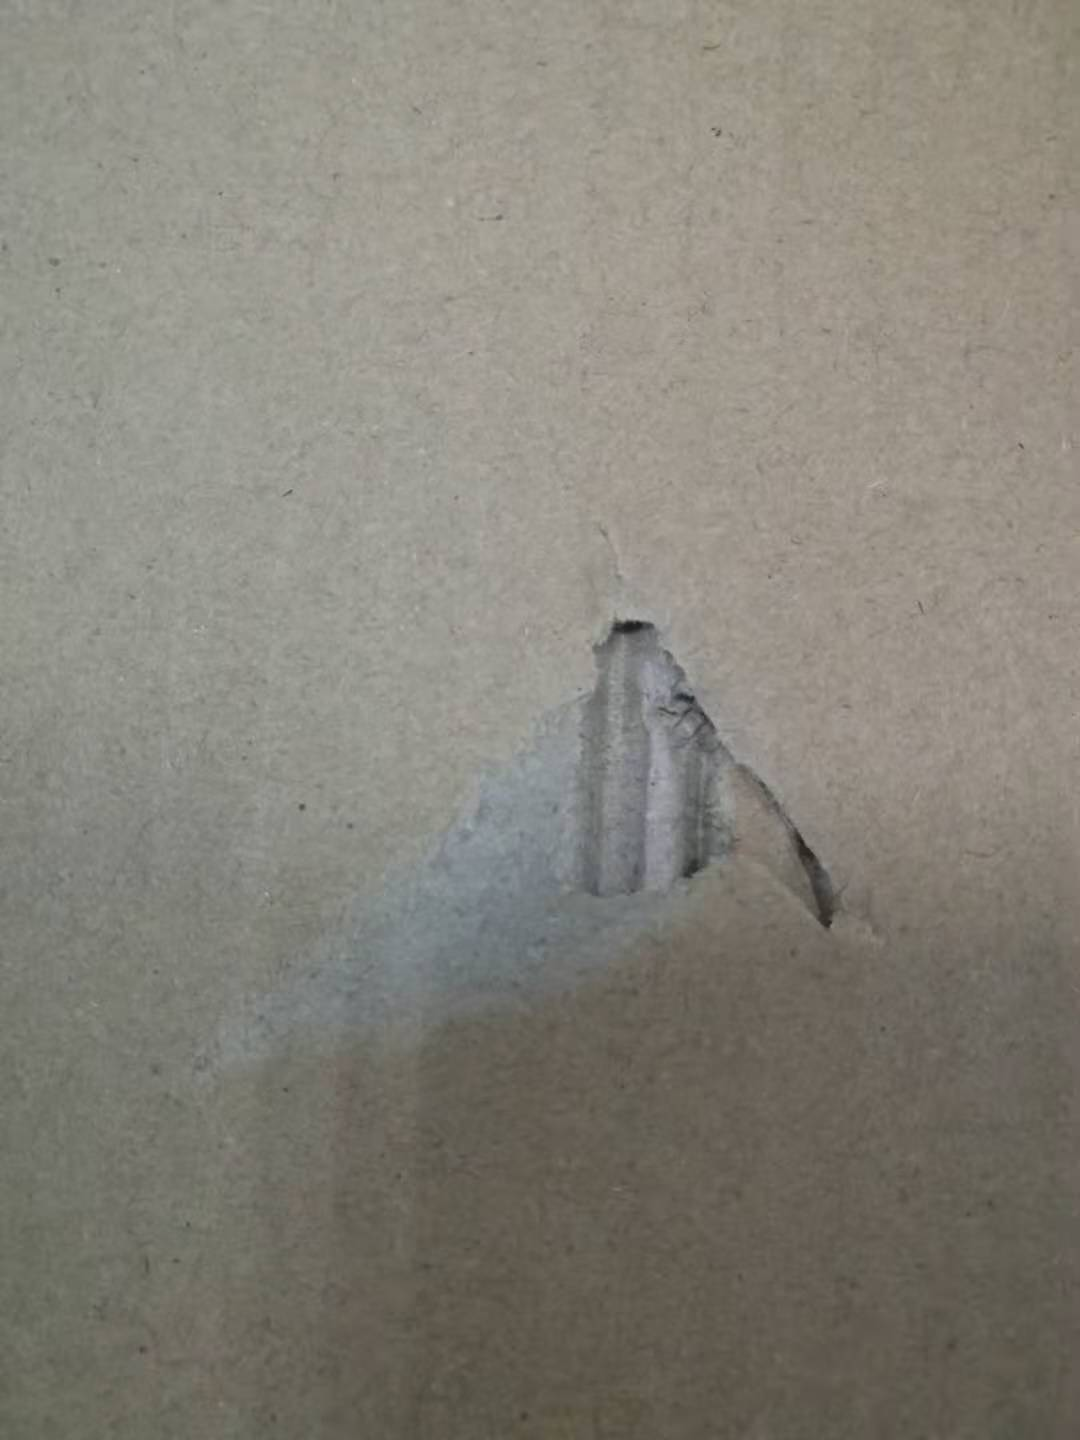defect: (125, 510, 908, 1116)
